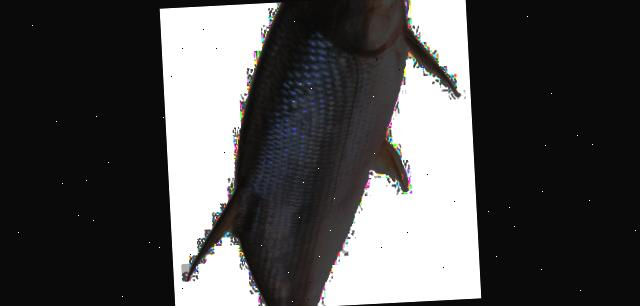Healthy Fish: (189, 0, 453, 306)
